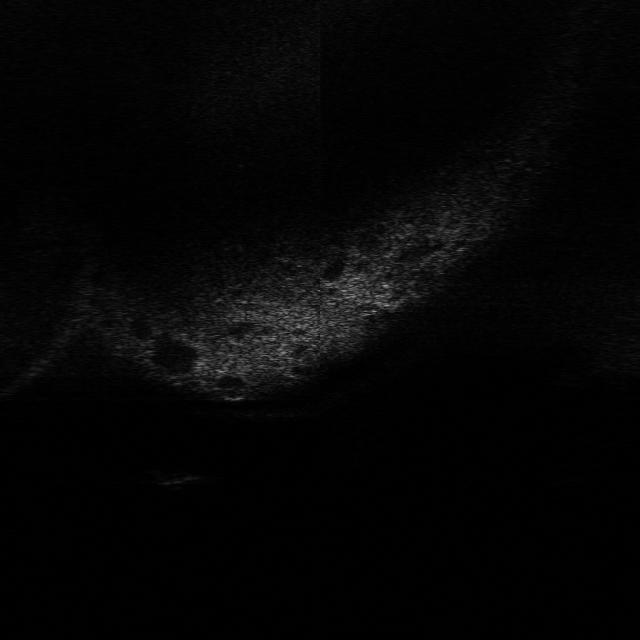cube: (144, 464, 202, 491)
